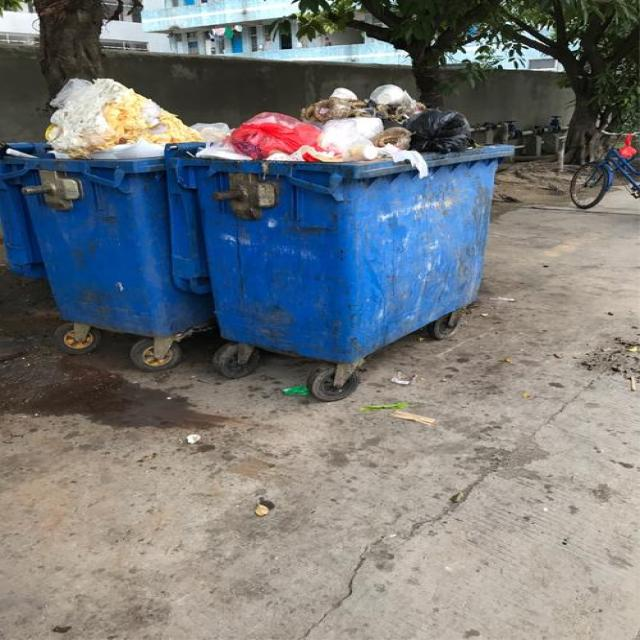overflow: (168, 83, 513, 361), (0, 77, 214, 336)
